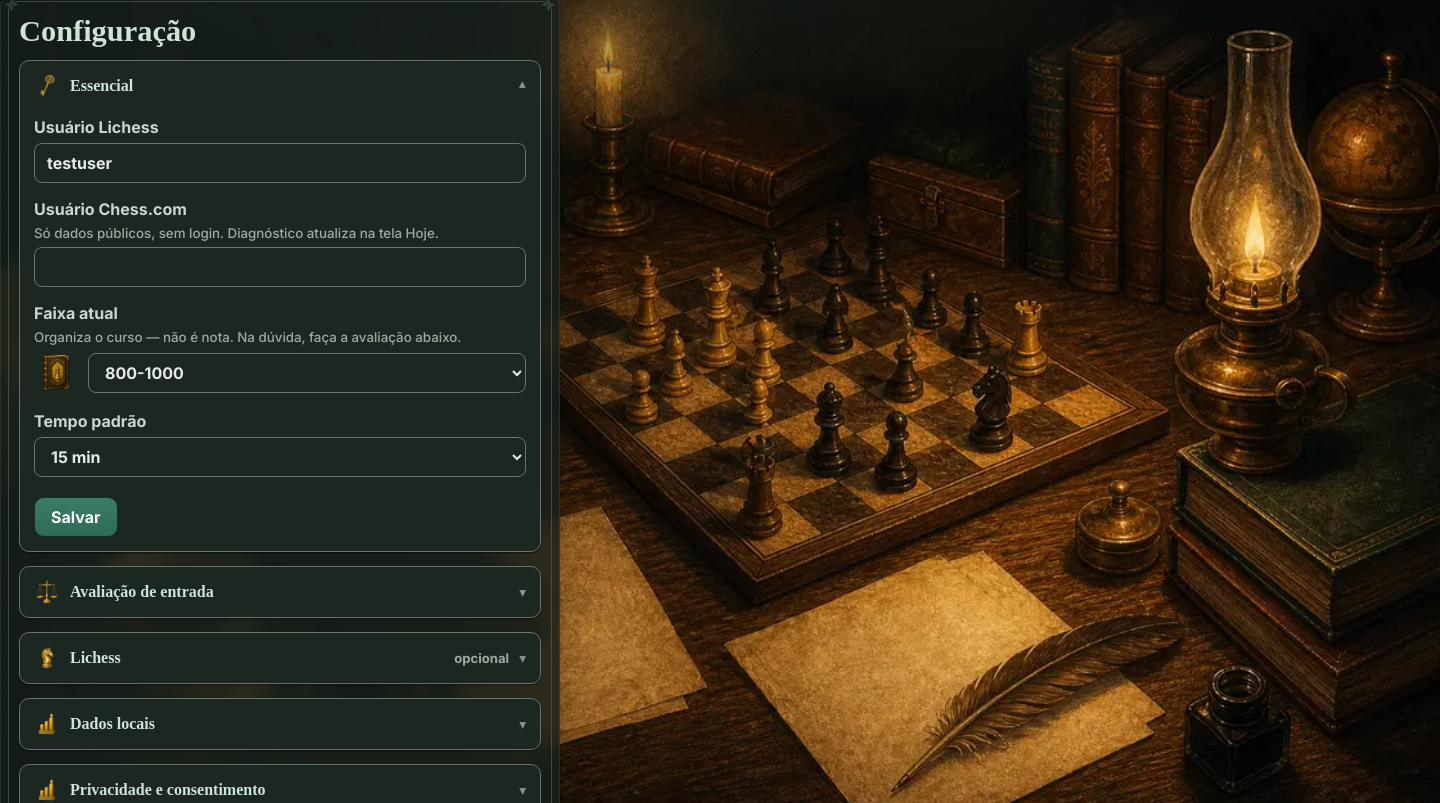
Test case: Config — Lichess OAuth › "Remover conexão" is disabled when no token is present
Click the heading "Lichess opcional": (95, 658) [34,645,509,671]
(page scrolled)
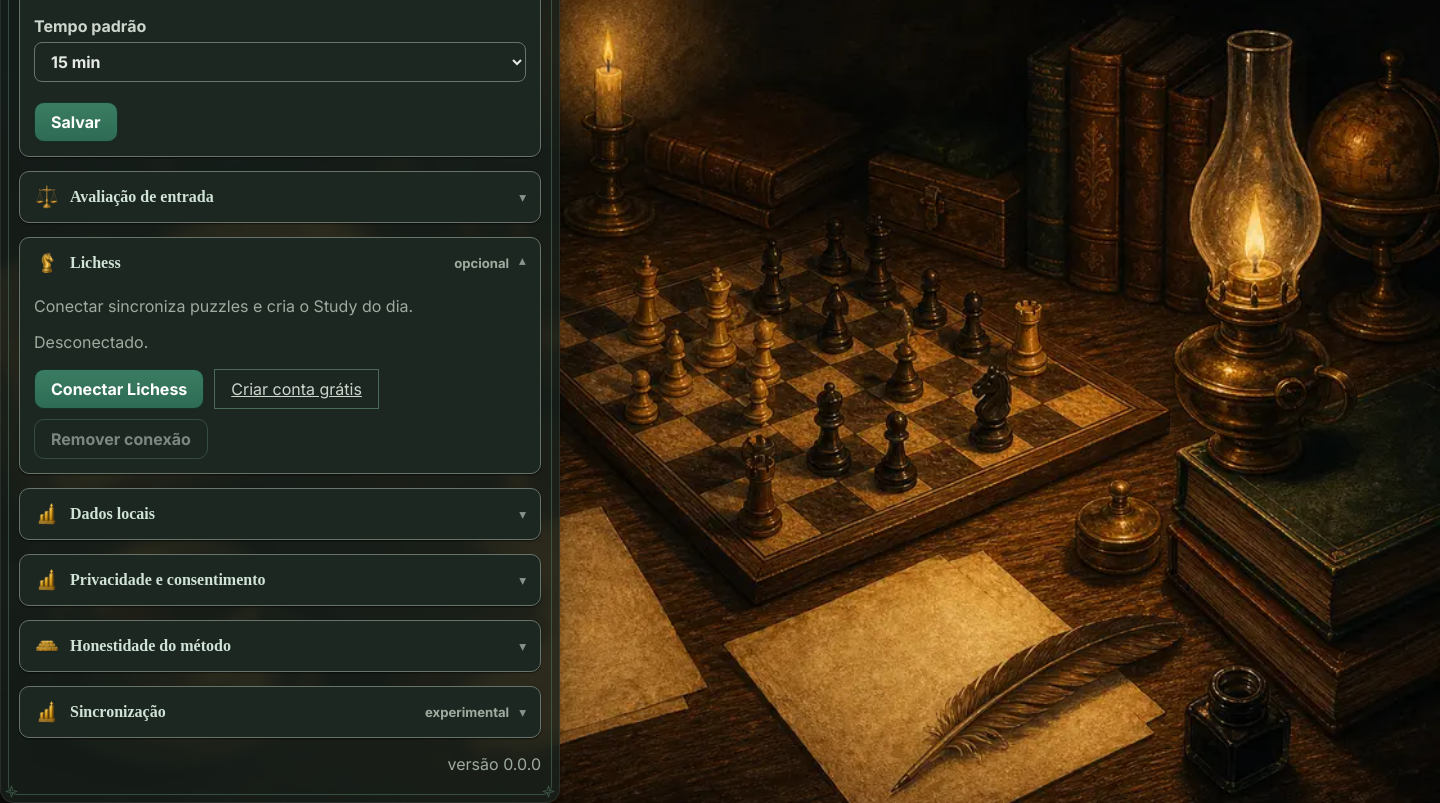
expect the button "Remover conexão" is disabled: met, box [34,419,208,459]
